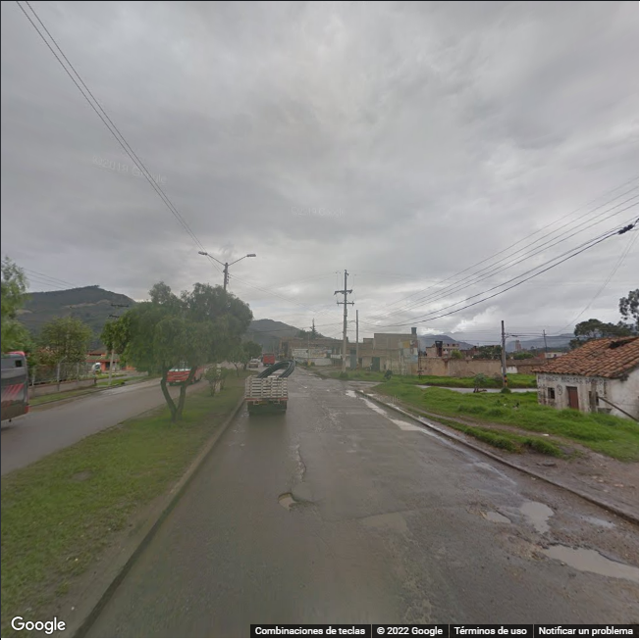D10: (321, 503, 472, 522)
D40: (533, 537, 636, 585), (518, 488, 551, 529), (276, 488, 300, 512)
